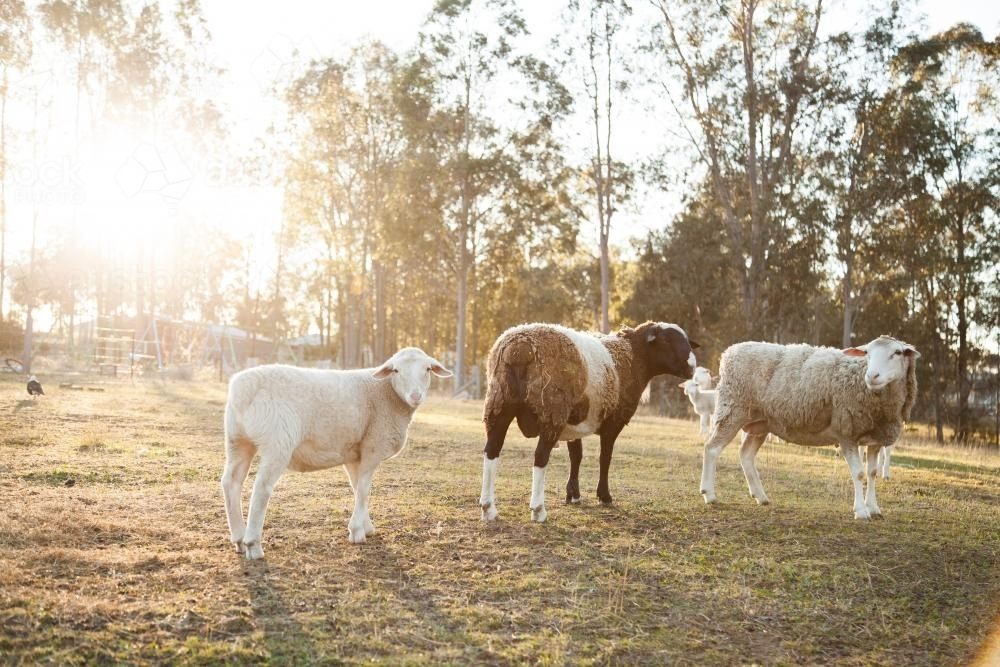sheep: (210, 330, 446, 559), (722, 322, 937, 551), (489, 305, 715, 513)
